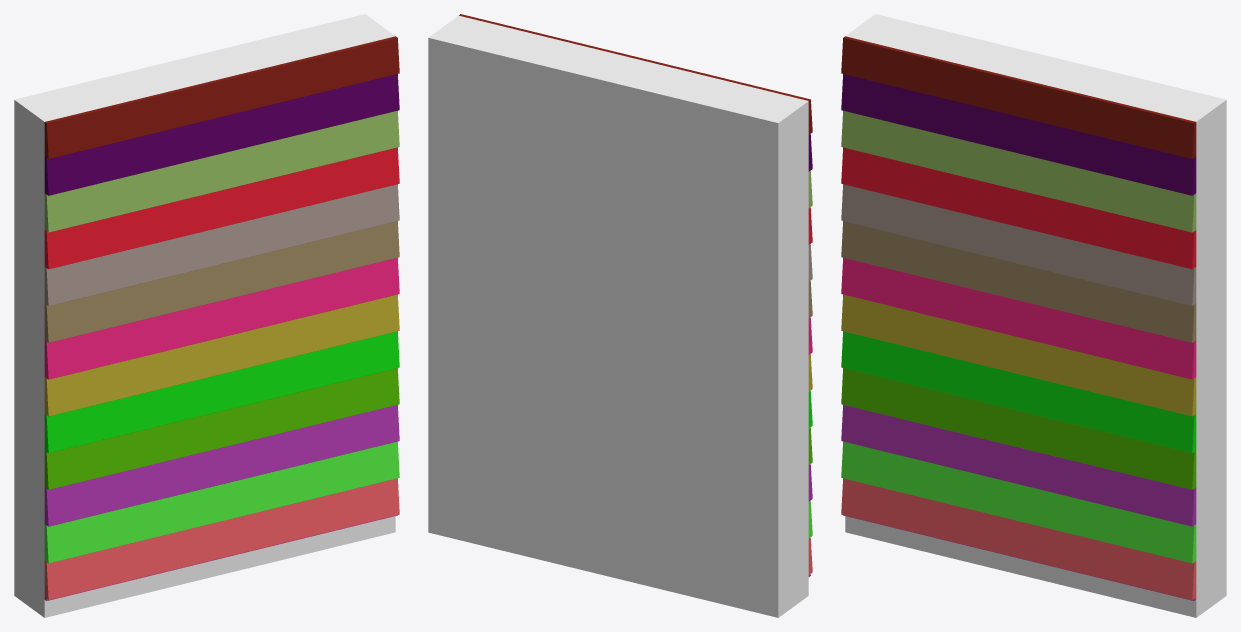
The model's file is generic_wall_wood.fbx.
3 views of the same model, side by side, from view 1: azimuth 30°, elevation 25°; view 2: azimuth 150°, elevation 25°; view 3: azimuth 330°, elevation 25° (orthographic).
Visible parts, largest first — view 1: Wall; view 2: Wall; view 3: Wall.
Boxes of the visible parts, x1,y1,x2,y2 form: Wall: (14,14,399,617); Wall: (428,14,812,617); Wall: (841,14,1226,617).
Bounding box in the file's own units: 200 × 33.97 × 270.
